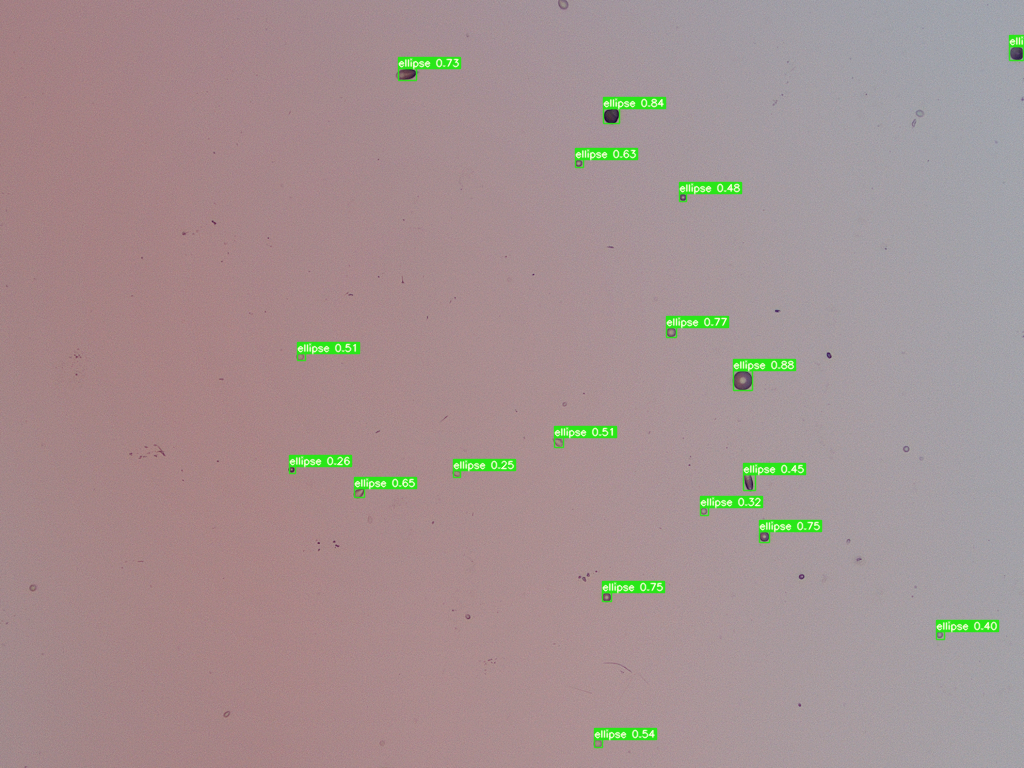circle: (733, 371, 752, 390), (1010, 46, 1023, 60), (759, 531, 769, 541), (666, 327, 675, 336), (602, 592, 610, 601), (593, 739, 601, 747), (296, 353, 303, 360), (575, 159, 582, 166), (679, 193, 686, 200), (700, 508, 706, 514), (936, 631, 942, 637), (29, 585, 35, 590), (288, 466, 294, 471), (903, 446, 908, 451)
ellipse: (603, 109, 616, 124), (558, 0, 568, 9), (552, 438, 563, 446), (451, 470, 461, 476)
